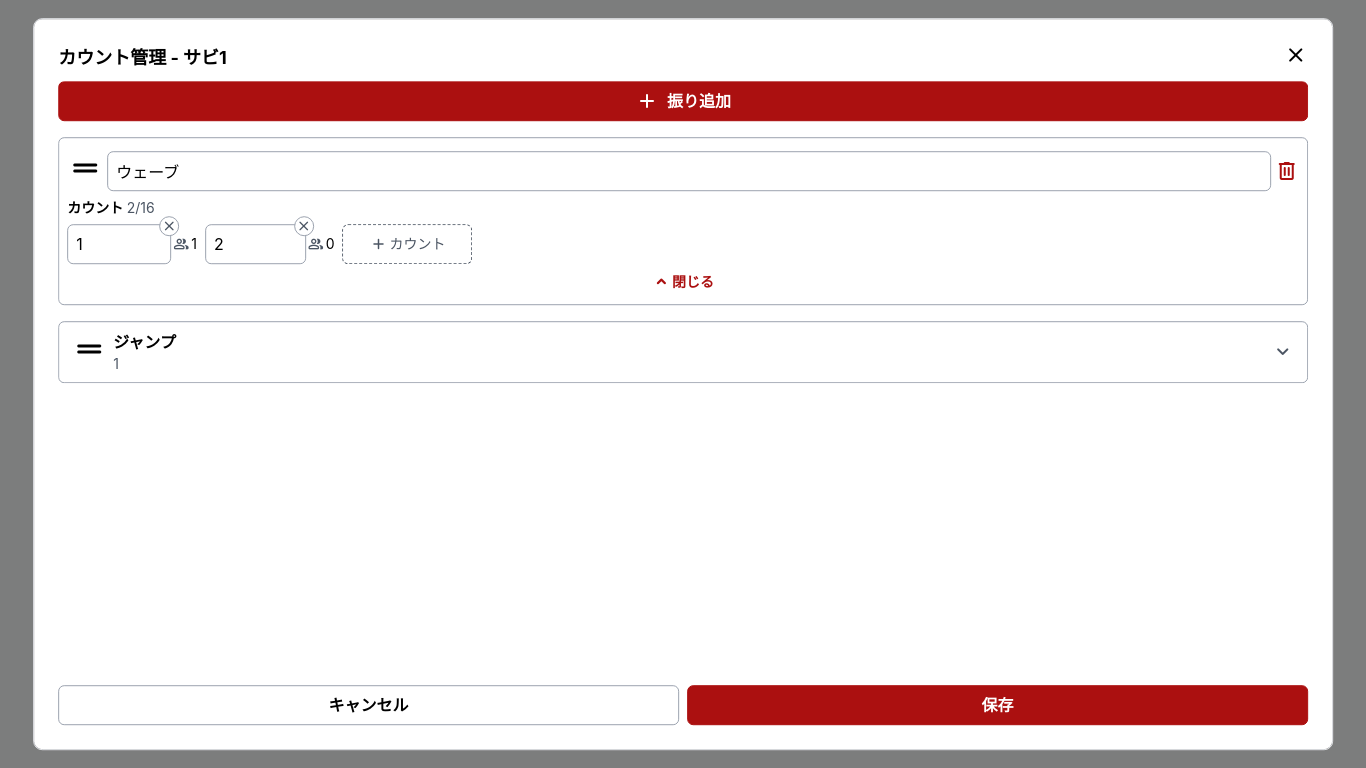
it: ActionManagerDialog error timing › waits on blank counts after 自分で入力, and two blanks aren't duplicates
Click the button "振り追加": (683, 101) [58,81,1308,121]
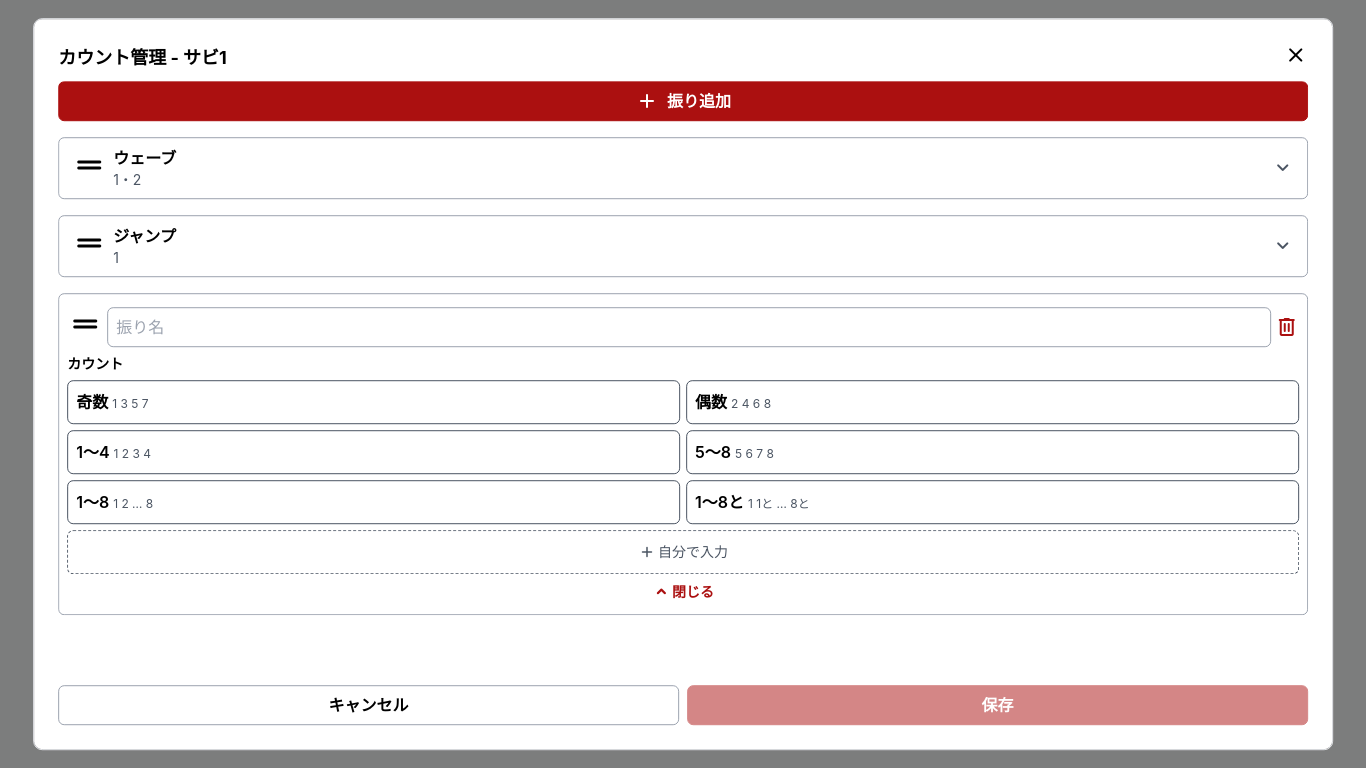
Click the button "自分で入力": (683, 552) [67,530,1299,574]
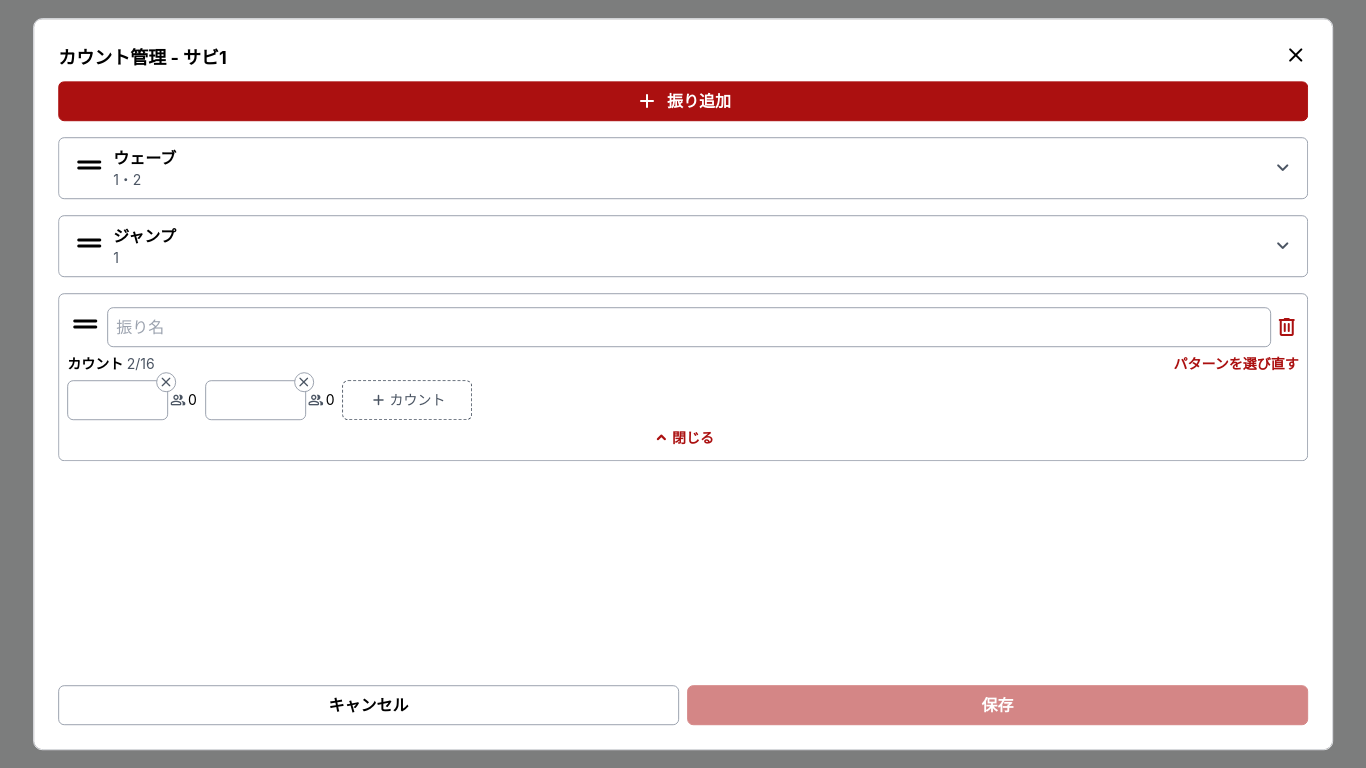
Expected: the text "カウント名が空" is not shown
Leave the 2nd field, box [67,380,168,420]
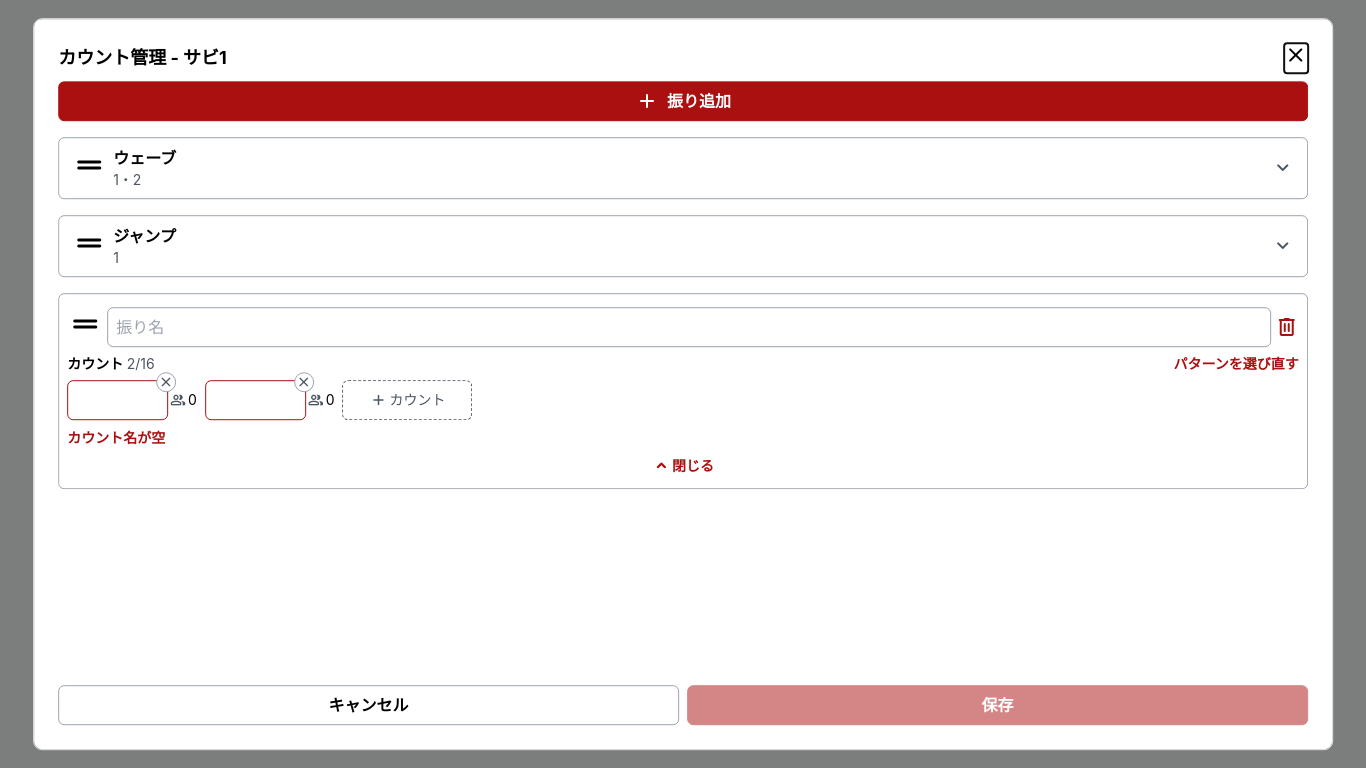
Result: the text "カウント名が空" is shown at [67,429,165,446]
